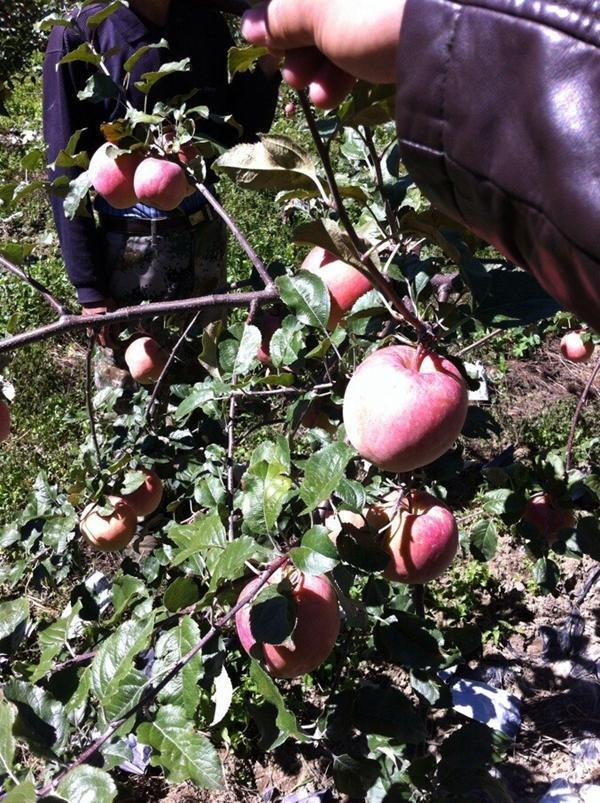apple: (341, 343, 472, 475), (232, 566, 338, 682), (369, 490, 454, 583), (302, 248, 382, 327), (88, 137, 136, 213), (133, 157, 186, 214)
